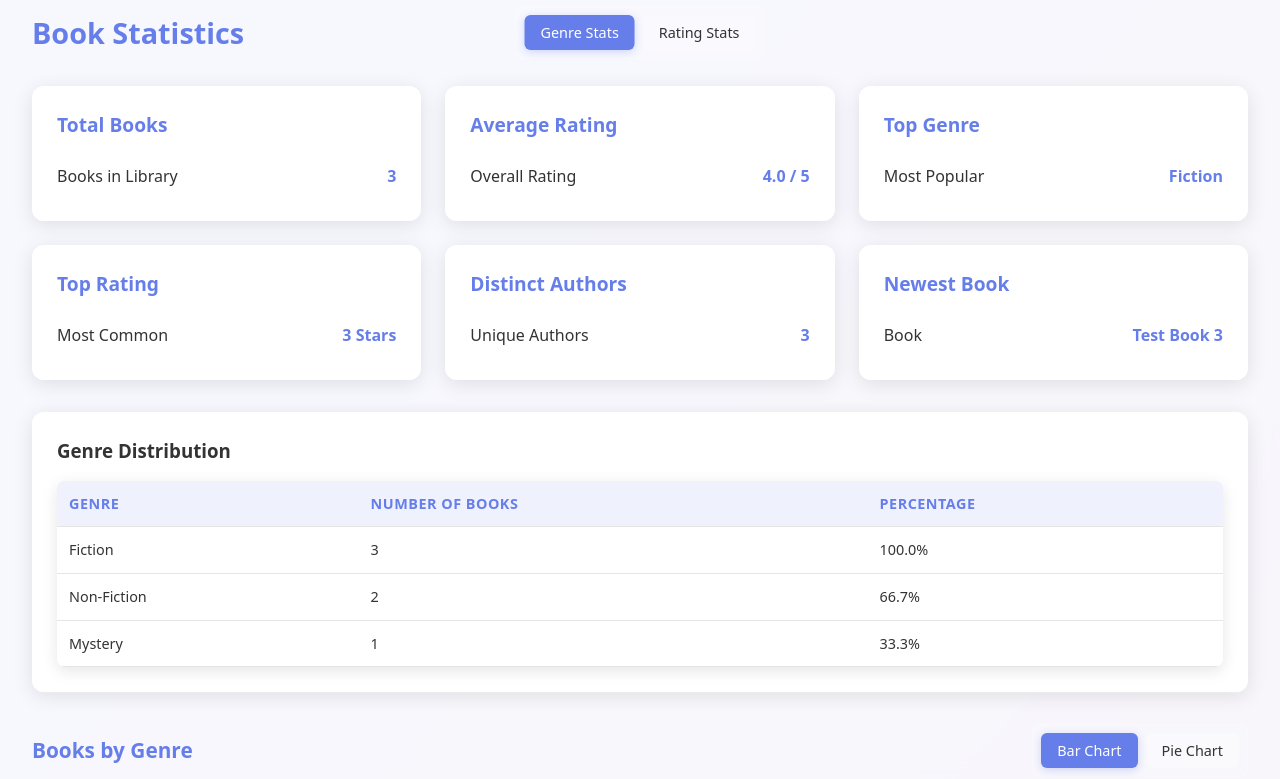
Scenario: StatsView › switches to ratings view when rating stats button is clicked
Click the button "Rating Stats". click: (699, 33)
box: [643,15,756,50]
(page scrolled)
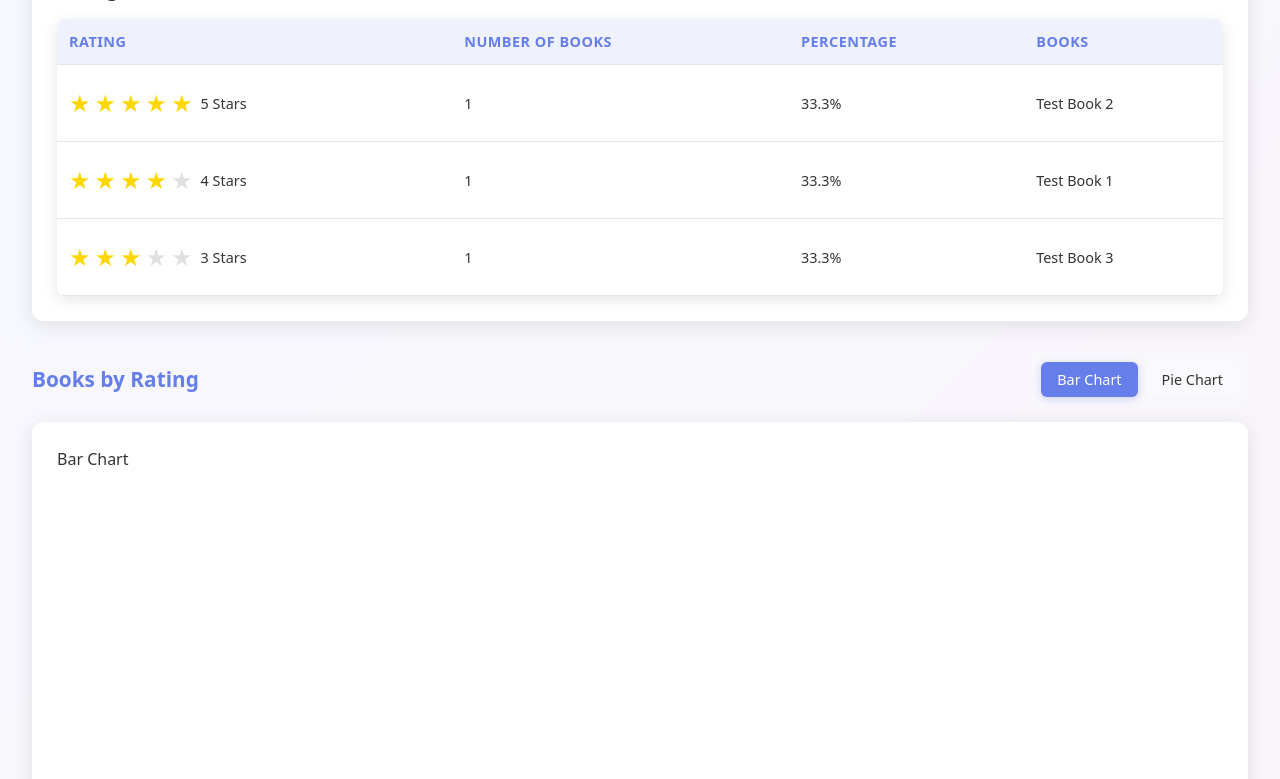
Result: the heading "Books by Rating" is shown at [32,364,199,396]
